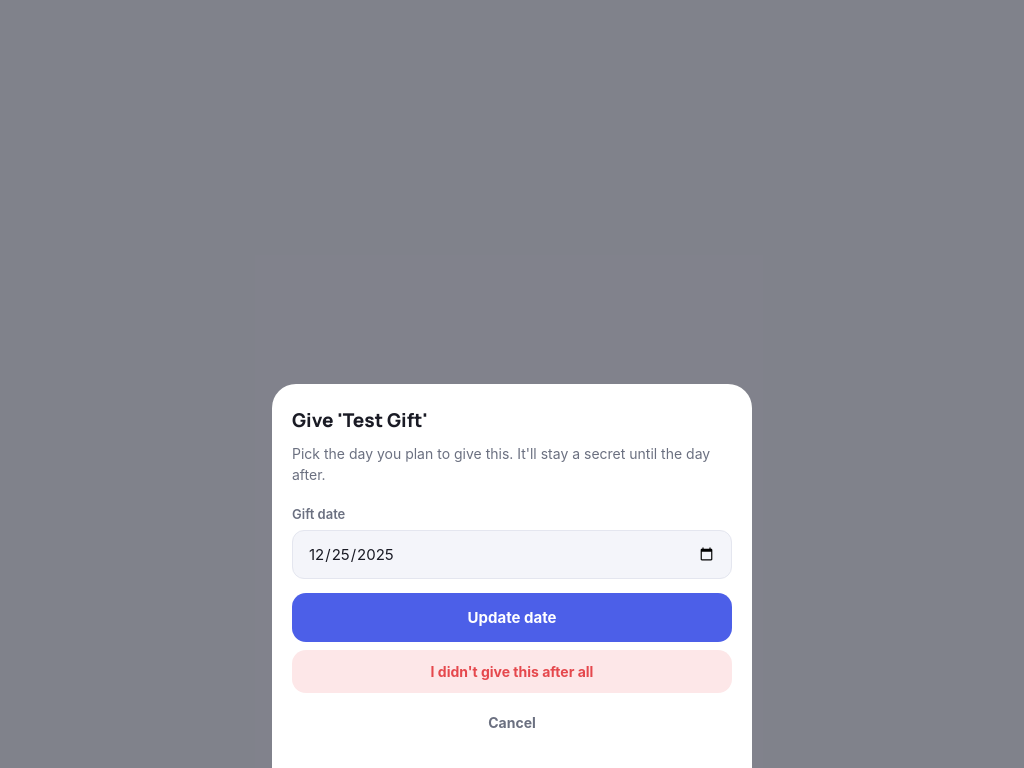
Test: ClaimModal › edit claim mode (isEdit=true) › should disable all buttons while unclaiming
The width and height of the screenshot is (1024, 768).
Click the button "I didn't give this after all".
click(512, 672)  # box [292,650,732,693]
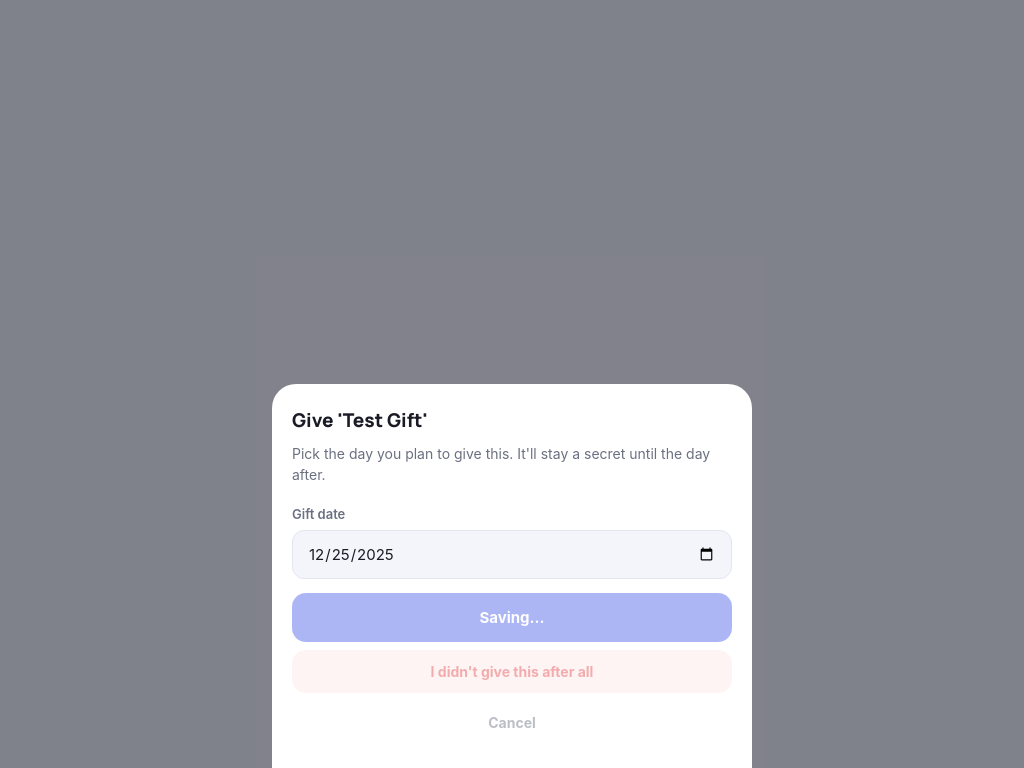
expect the button "Saving…" is disabled: met, box [292,593,732,642]
expect the button "Cancel" is disabled: met, box [292,701,732,744]
expect the button "I didn't give this after all" is disabled: met, box [292,650,732,693]
